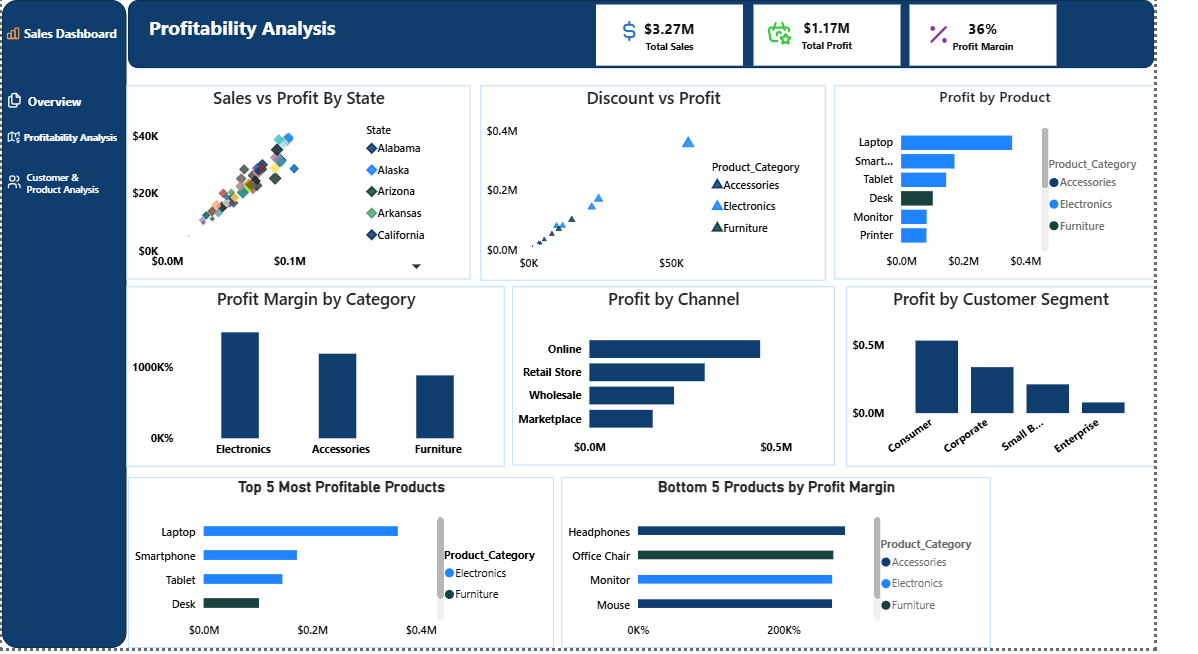

Layout of this report page (visuals, bound fields, positions):
{"tool":"powerbi","page":{"name":"Page 2","canvas":[1280,720],"ordinal":1},"visuals":[{"type":"shape","box":[0,0,138.3,720],"z":0},{"type":"scatterChart","title":"Sales vs Profit By State","fields":{"Y":["Sum(business_dataset.Profit)"],"X":["Sum(business_dataset.Sales)"],"Size":["Sum(business_dataset.Quantity)"],"Series":["business_dataset.State"]},"box":[138.3,95,381.7,215],"z":1000},{"type":"scatterChart","title":"Discount vs Profit ","fields":{"X":["Sum(business_dataset.Discount_Amount)"],"Y":["Sum(business_dataset.Profit)"],"Size":["Sum(business_dataset.Sales)"],"Category":["business_dataset.Product"],"Series":["business_dataset.Product_Category"]},"box":[531.7,95,383.3,216.7],"z":2000},{"type":"barChart","title":"Profit by Product","fields":{"Category":["business_dataset.Product"],"Y":["Sum(business_dataset.Profit)"],"Series":["business_dataset.Product_Category"]},"box":[925,95,355,215],"z":3000},{"type":"columnChart","title":"Profit Margin by Category","fields":{"Category":["business_dataset.Product_Category"],"Y":["Sum(business_dataset.Profit_Margin_Percent)"]},"box":[138.3,318.3,420,200],"z":4000},{"type":"barChart","title":"Profit by Channel","fields":{"Category":["business_dataset.Sales_Channel"],"Y":["Sum(business_dataset.Profit)"]},"box":[566.7,318.3,358.3,198.3],"z":5000},{"type":"columnChart","title":"Profit by Customer Segment","fields":{"Category":["business_dataset.Customer_Segment"],"Y":["Sum(business_dataset.Profit)"]},"box":[938.3,318.3,341.7,200],"z":6000},{"type":"barChart","title":"Top 5 Most Profitable Products","fields":{"Category":["business_dataset.Product"],"Y":["Sum(business_dataset.Profit)"],"Series":["business_dataset.Product_Category"]},"box":[140,530,473.3,190],"z":7000},{"type":"barChart","title":"Bottom 5 Products by Profit Margin","fields":{"Category":["business_dataset.Product"],"Y":["Sum(business_dataset.Profit_Margin_Percent)"],"Series":["business_dataset.Product_Category"]},"box":[621.7,530,476.7,190],"z":8000},{"type":"shape","box":[140,0,1140,75.7],"z":9000},{"type":"textbox","box":[158.6,10,435.7,47.1],"z":10000},{"type":"cardVisual","fields":{"Data":["Sheet1.Total Sales"]},"box":[660,4.3,163,68],"z":11000},{"type":"cardVisual","fields":{"Data":["Sheet1.Total Profit"]},"box":[834.3,4.3,163,68],"z":12000},{"type":"cardVisual","fields":{"Data":["Sheet1.Profit Margin"]},"box":[1008.6,4.3,163,68],"z":13000},{"type":"image","box":[4,28,18,17],"z":14000},{"type":"image","box":[2.9,100,20,22.9],"z":15000},{"type":"image","box":[4.3,138.6,15.7,27.1],"z":16000},{"type":"image","box":[4.3,192.9,17.1,17.1],"z":17000},{"type":"image","box":[682.9,17.1,27.1,35.7],"z":18000},{"type":"image","box":[848.6,10,30,51.4],"z":19000},{"type":"image","box":[1025.7,18.6,31.4,40],"z":20000},{"type":"actionButton","box":[11.7,16.7,120,40],"z":21000},{"type":"actionButton","box":[18.3,131.7,113.3,40],"z":22000},{"type":"actionButton","box":[25,91.7,100,40],"z":23000},{"type":"actionButton","box":[22.9,182.9,100,40],"z":24000}]}

Visuals, with their boxes on the page's 1280x720 design canvas (x1, y1, x2, y2). These are canvas units, not pixel positions in the 1198x654 screenshot, which may show the page scaled, cropped or inside an application window:
shape: (x1=0, y1=0, x2=138, y2=720)
"Sales vs Profit By State" scatterChart: (x1=138, y1=95, x2=520, y2=310)
"Discount vs Profit " scatterChart: (x1=532, y1=95, x2=915, y2=312)
"Profit by Product" barChart: (x1=925, y1=95, x2=1280, y2=310)
"Profit Margin by Category" columnChart: (x1=138, y1=318, x2=558, y2=518)
"Profit by Channel" barChart: (x1=567, y1=318, x2=925, y2=517)
"Profit by Customer Segment" columnChart: (x1=938, y1=318, x2=1280, y2=518)
"Top 5 Most Profitable Products" barChart: (x1=140, y1=530, x2=613, y2=720)
"Bottom 5 Products by Profit Margin" barChart: (x1=622, y1=530, x2=1098, y2=720)
shape: (x1=140, y1=0, x2=1280, y2=76)
textbox: (x1=159, y1=10, x2=594, y2=57)
cardVisual - Sheet1.Total Sales: (x1=660, y1=4, x2=823, y2=72)
cardVisual - Sheet1.Total Profit: (x1=834, y1=4, x2=997, y2=72)
cardVisual - Sheet1.Profit Margin: (x1=1009, y1=4, x2=1172, y2=72)
image: (x1=4, y1=28, x2=22, y2=45)
image: (x1=3, y1=100, x2=23, y2=123)
image: (x1=4, y1=139, x2=20, y2=166)
image: (x1=4, y1=193, x2=21, y2=210)
image: (x1=683, y1=17, x2=710, y2=53)
image: (x1=849, y1=10, x2=879, y2=61)
image: (x1=1026, y1=19, x2=1057, y2=59)
actionButton: (x1=12, y1=17, x2=132, y2=57)
actionButton: (x1=18, y1=132, x2=132, y2=172)
actionButton: (x1=25, y1=92, x2=125, y2=132)
actionButton: (x1=23, y1=183, x2=123, y2=223)
